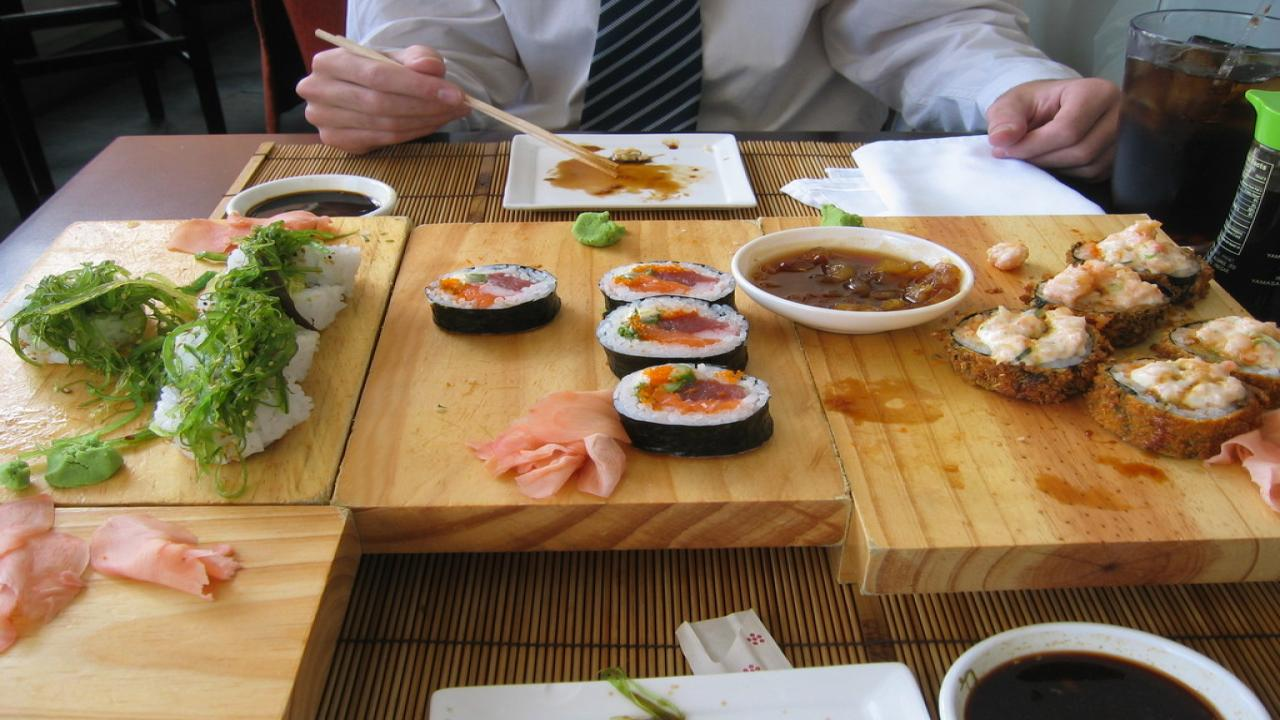chopstick: (310, 27, 622, 175)
